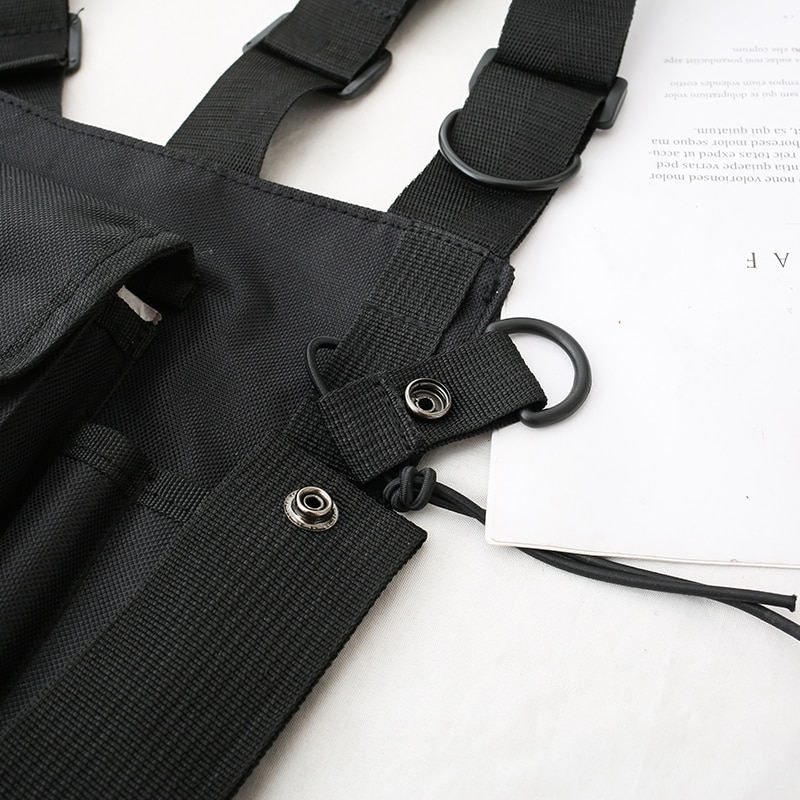Men's Backpacks: (1, 1, 633, 800)
